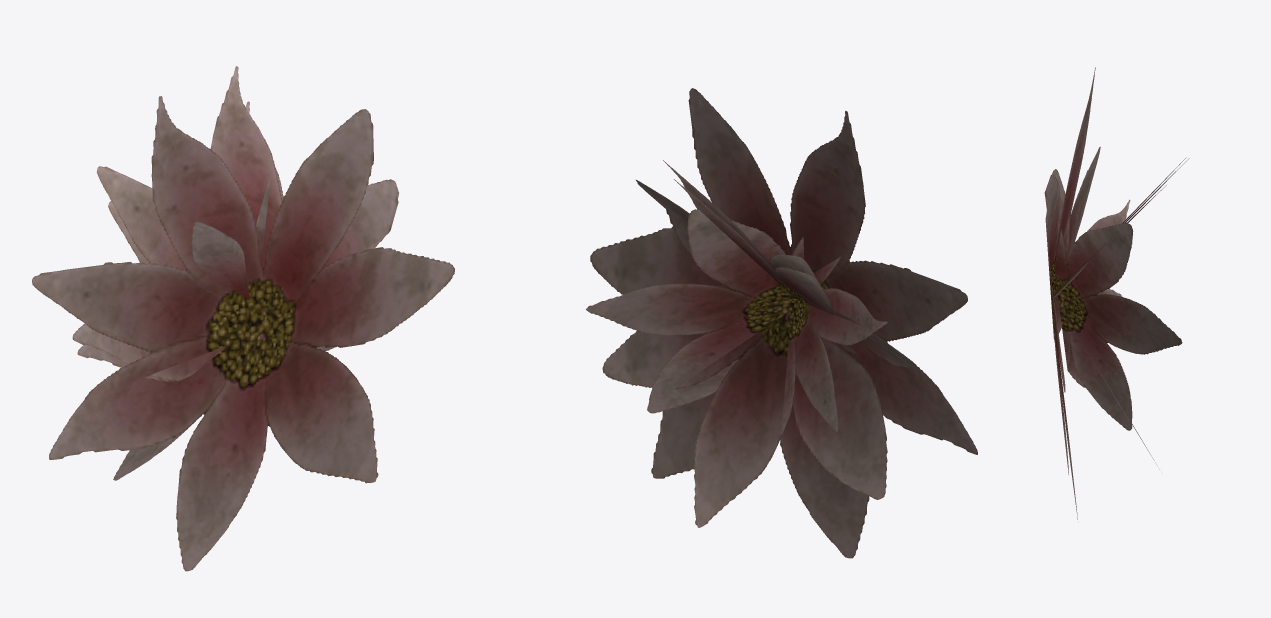
The model's file is TI_WaterLily_Bloom_02.fbx.
3 views of the same model, side by side, from view 1: azimuth 30°, elevation 25°; view 2: azimuth 150°, elevation 25°; view 3: azimuth 270°, elevation 25° (orthographic). The views are drawn at different scales.
Visible parts, largest first — view 1: TI_WaterLily_Bloom_02; view 2: TI_WaterLily_Bloom_02; view 3: TI_WaterLily_Bloom_02.
Part boxes in pixels (x1,y1,x2,y2): TI_WaterLily_Bloom_02: (32, 66, 454, 571); TI_WaterLily_Bloom_02: (586, 88, 977, 558); TI_WaterLily_Bloom_02: (1044, 67, 1189, 519).
Size of the model in its own units: 0.5781 by 0.6357 by 0.2966.
